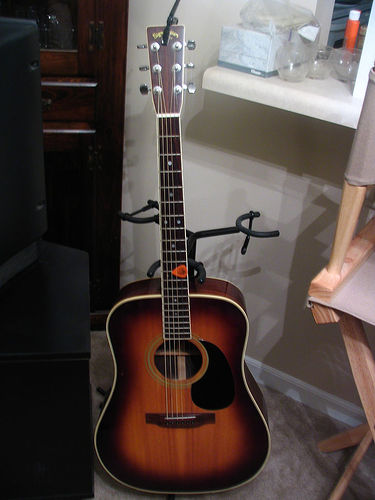guitar: (94, 23, 272, 495)
